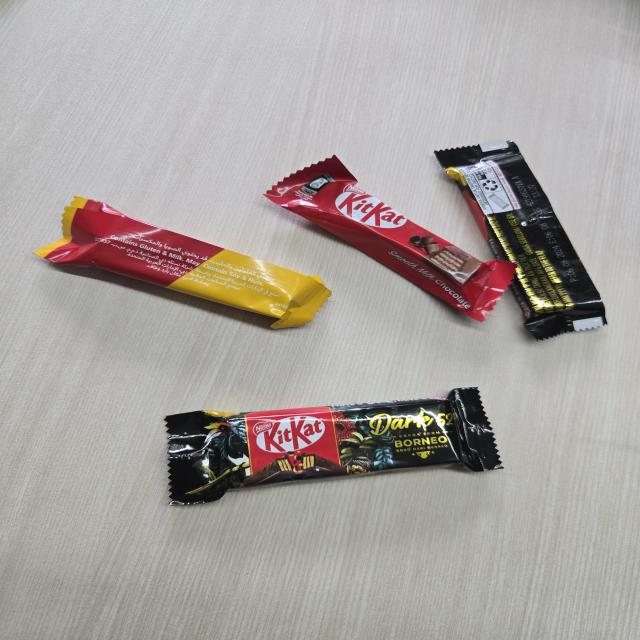chocolate-bar: (135, 387, 518, 512), (260, 154, 526, 329), (29, 191, 336, 338), (426, 132, 616, 346)
